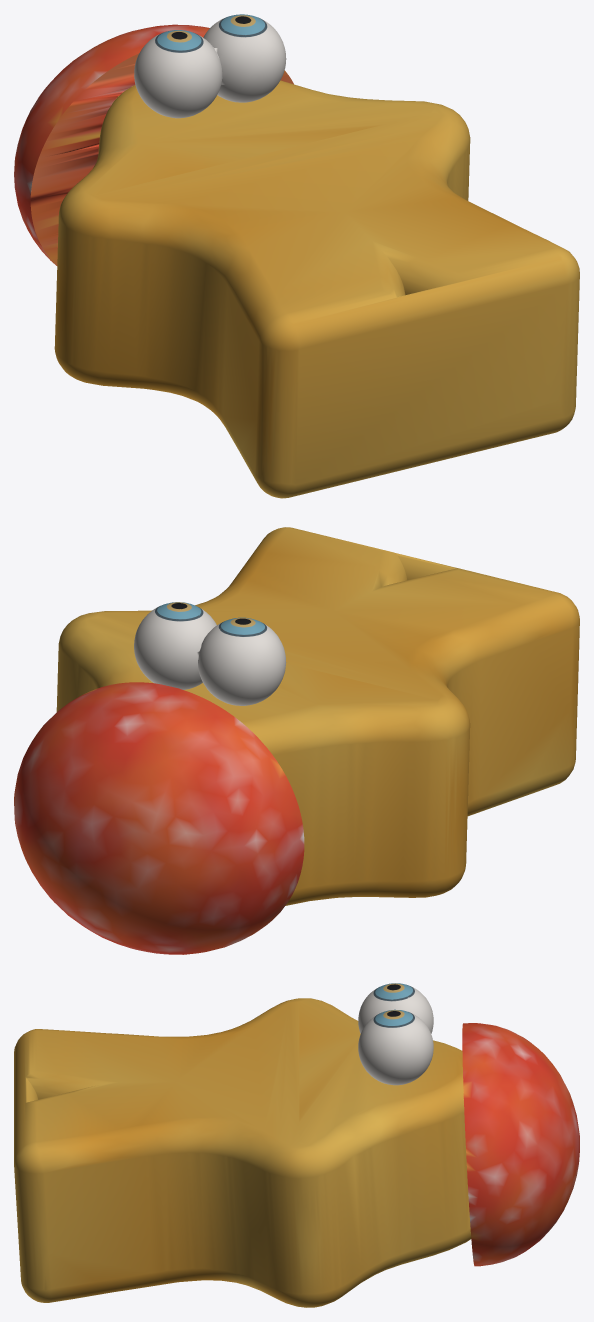
Rendered from meeple-fallen.glb.
The picture shows the model from 3 angles, top to bottom: view 1: azimuth 30°, elevation 25°; view 2: azimuth 150°, elevation 25°; view 3: azimuth 270°, elevation 25°; orthographic projection. The views are drawn at different scales.
Parts seen in each view (by area): view 1: meeple, eye; view 2: meeple, eye; view 3: meeple, eye.
Boxes of the visible parts, box(x1,y1,x2,y2) form: meeple: box(14, 24, 579, 498); eye: box(134, 14, 286, 118); meeple: box(14, 527, 579, 954); eye: box(134, 602, 286, 705); meeple: box(14, 998, 579, 1307); eye: box(358, 983, 433, 1085).
Bounding box in the file's own units: 1.88 × 1.33 × 2.7.
